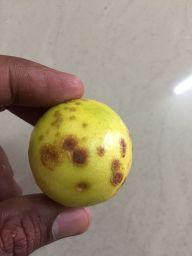lemon: (26, 87, 134, 210)
